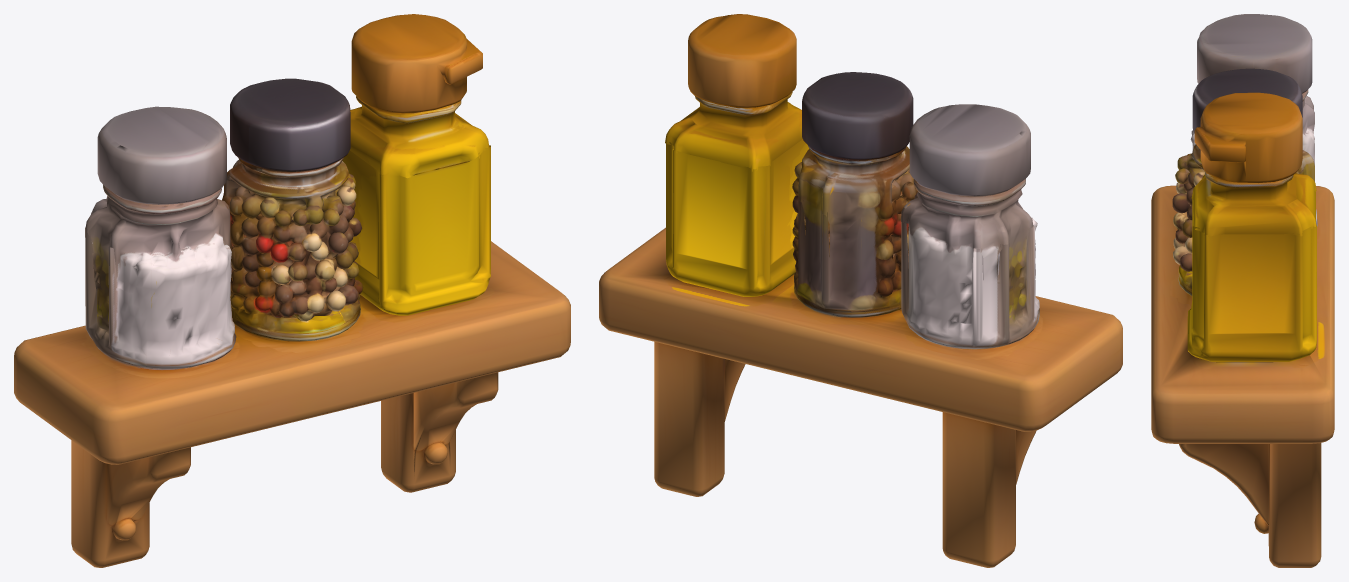
The model's file is spice-rack.glb.
3 renders of one model, left to right at view 1: azimuth 30°, elevation 25°; view 2: azimuth 150°, elevation 25°; view 3: azimuth 270°, elevation 25°, orthographic. The views are drawn at different scales.
Visible parts, largest first — view 1: spice_rack_mesh; view 2: spice_rack_mesh; view 3: spice_rack_mesh.
Part boxes in pixels (box(x1,y1,x2,y2)): spice_rack_mesh: box(14, 14, 570, 567); spice_rack_mesh: box(599, 14, 1122, 567); spice_rack_mesh: box(1151, 14, 1334, 567).
Size of the model in its own units: 0.74 by 0.7035 by 0.2695.
Materials: 1 (1 with a texture image).
